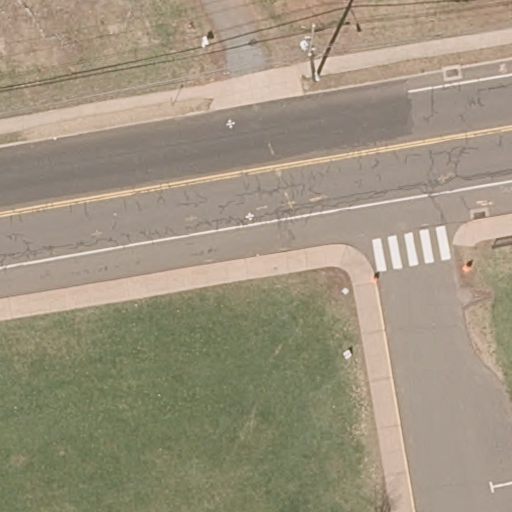DT: (299, 23, 322, 84)
